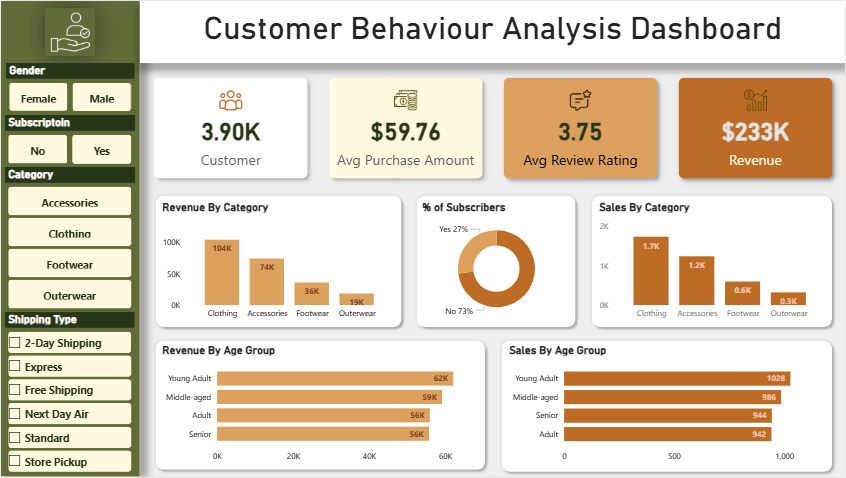

What the dashboard file says about the page in this screenshot:
{"tool":"powerbi","page":{"name":"Page 1","canvas":[1280,720],"ordinal":0},"visuals":[{"type":"shape","box":[0,0,210,720],"z":0},{"type":"shape","box":[210,0,1070,94],"z":1000},{"type":"cardVisual","fields":{"Data":["_All Measure Table.Total Customer","_All Measure Table.Average Purchase Amount","_All Measure Table.Average Review Rating","_All Measure Table.Revenue"]},"box":[210,99.9,1070,185],"z":2000},{"type":"textbox","box":[296,8,900,80],"z":3000},{"type":"advancedSlicerVisual","title":"Gender","fields":{"Values":["public customer.gender"]},"box":[7.4,94.2,195.3,72.1],"z":4000},{"type":"listSlicer","title":"Shipping Type","fields":{"Values":["public customer.shipping_type"]},"box":[6.3,471.1,196.3,246.8],"z":5000},{"type":"shape","box":[226.7,507.2,513.3,210],"z":6000},{"type":"shape","box":[226.7,288.6,386.7,213.3],"z":7000},{"type":"image","box":[66.8,10,76.3,73.2],"z":8000},{"type":"shape","box":[752,507,515,213],"z":9000},{"type":"shape","box":[623.3,288.6,255,213.3],"z":10000},{"type":"shape","box":[888.3,288.6,378.3,213.3],"z":11000},{"type":"donutChart","title":"% of Subscribers","fields":{"Category":["public customer.subscription_status"],"Y":["CountNonNull(public customer.customer_id)"]},"box":[633.1,301.5,234.6,189.2],"z":12000},{"type":"clusteredColumnChart","title":"Sales By Category","fields":{"Category":["public customer.category"],"Y":["CountNonNull(public customer.customer_id)"]},"box":[900.8,301.5,353.1,189.2],"z":13000},{"type":"barChart","title":"Revenue By Age Group","fields":{"Category":["public customer.age_group"],"Y":["Sum(public customer.purchase_amount)"]},"box":[240,517.7,491.5,189.2],"z":14000},{"type":"clusteredColumnChart","title":"Revenue By Category","fields":{"Category":["public customer.category"],"Y":["Sum(public customer.purchase_amount)"]},"box":[240,301.5,360,189.2],"z":15000},{"type":"barChart","title":"Sales By Age Group","fields":{"Category":["public customer.age_group"],"Y":["CountNonNull(public customer.customer_id)"]},"box":[765,518.3,488.3,190],"z":16000},{"type":"advancedSlicerVisual","title":"Subscriptoin","fields":{"Values":["public customer.subscription_status"]},"box":[6.7,173.3,196.7,73.3],"z":17000},{"type":"advancedSlicerVisual","title":"Category","fields":{"Values":["public customer.category"]},"box":[6.7,251.7,196.7,215],"z":18000}]}

Visuals, with their boxes in screenshot pixels (x1, y1, x2, y2), scaled from the page's 1280x720 canvas onto the 846x478 screenshot:
shape: {"left": 0, "top": 0, "right": 139, "bottom": 477}
shape: {"left": 139, "top": 0, "right": 845, "bottom": 62}
cardVisual - _All Measure Table.Total Customer x _All Measure Table.Average Purchase Amount: {"left": 139, "top": 66, "right": 845, "bottom": 189}
textbox: {"left": 196, "top": 5, "right": 790, "bottom": 58}
"Gender" advancedSlicerVisual: {"left": 5, "top": 63, "right": 134, "bottom": 110}
"Shipping Type" listSlicer: {"left": 4, "top": 313, "right": 134, "bottom": 477}
shape: {"left": 150, "top": 337, "right": 489, "bottom": 476}
shape: {"left": 150, "top": 192, "right": 405, "bottom": 333}
image: {"left": 44, "top": 7, "right": 95, "bottom": 55}
shape: {"left": 497, "top": 337, "right": 837, "bottom": 477}
shape: {"left": 412, "top": 192, "right": 581, "bottom": 333}
shape: {"left": 587, "top": 192, "right": 837, "bottom": 333}
"% of Subscribers" donutChart: {"left": 418, "top": 200, "right": 573, "bottom": 326}
"Sales By Category" clusteredColumnChart: {"left": 595, "top": 200, "right": 829, "bottom": 326}
"Revenue By Age Group" barChart: {"left": 159, "top": 344, "right": 483, "bottom": 469}
"Revenue By Category" clusteredColumnChart: {"left": 159, "top": 200, "right": 397, "bottom": 326}
"Sales By Age Group" barChart: {"left": 506, "top": 344, "right": 828, "bottom": 470}
"Subscriptoin" advancedSlicerVisual: {"left": 4, "top": 115, "right": 134, "bottom": 164}
"Category" advancedSlicerVisual: {"left": 4, "top": 167, "right": 134, "bottom": 310}
